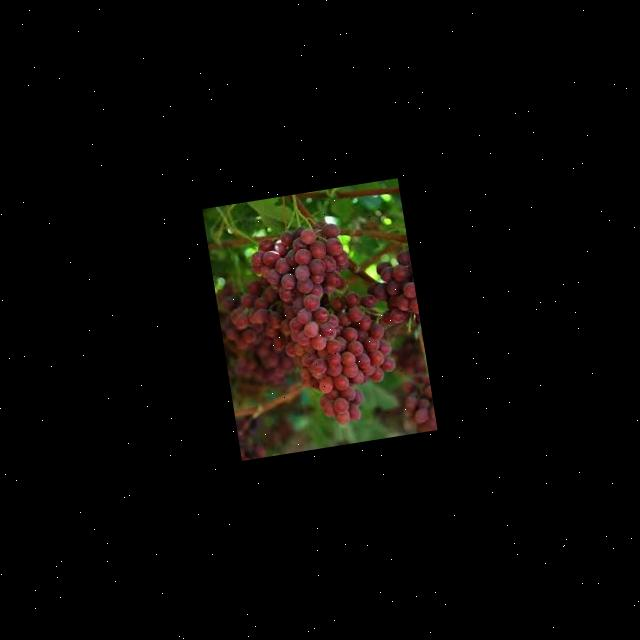grape: (208, 207, 435, 443)
